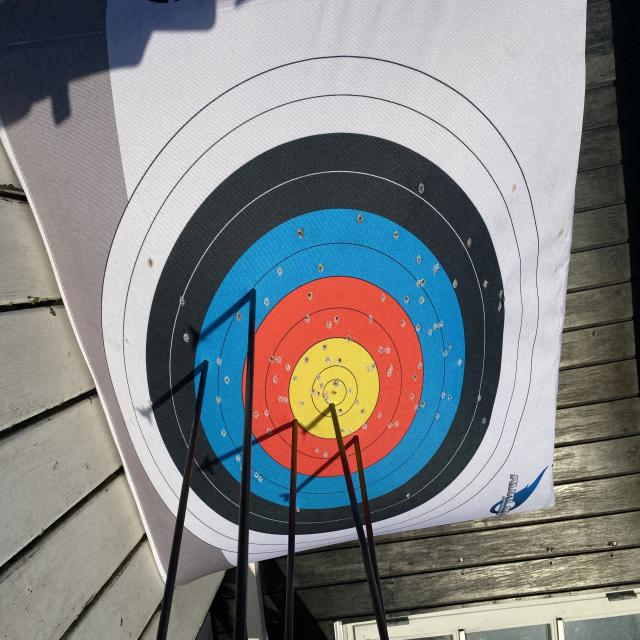Arrow_Blue: (194, 349, 225, 393), (245, 269, 264, 309)
Arrow_Red: (285, 412, 309, 448), (350, 419, 369, 459)
Arrow_Yellow: (320, 394, 348, 432)
